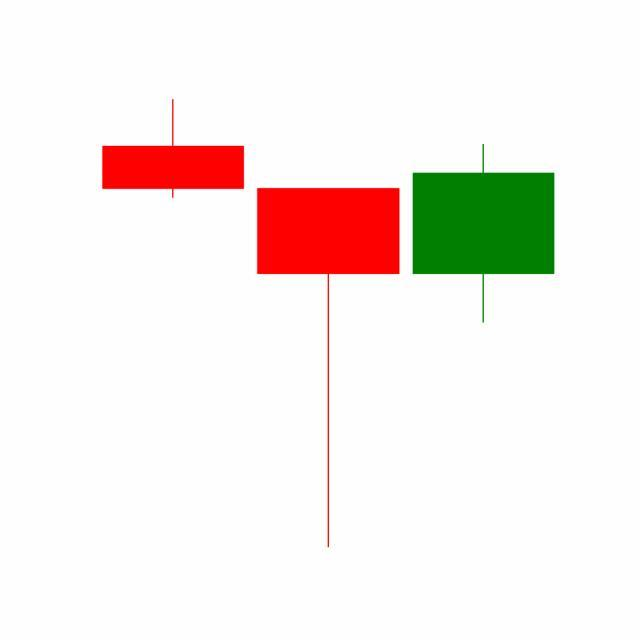Hammer: (250, 184, 407, 552)
